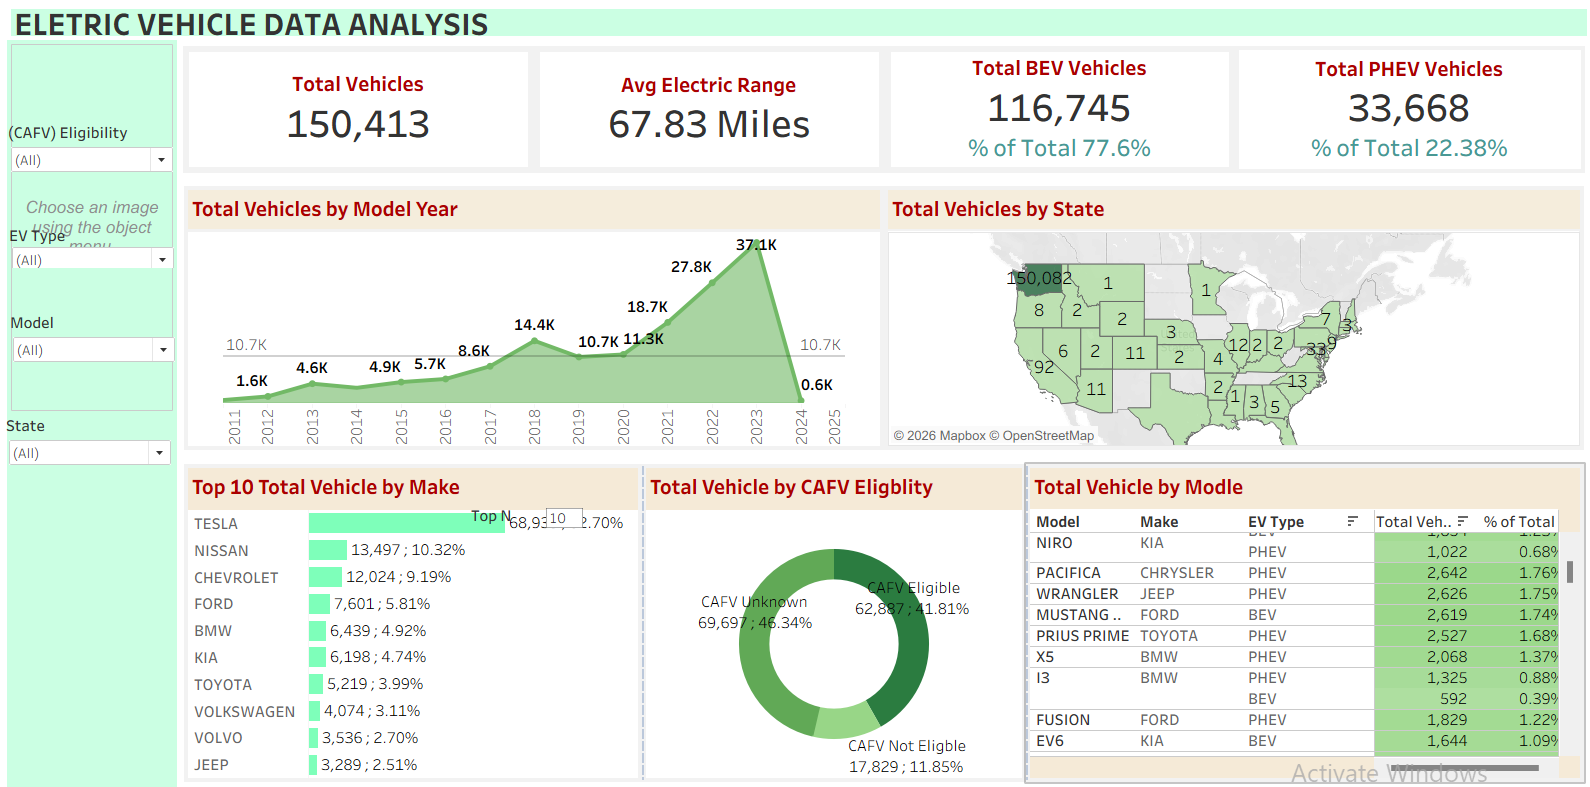

The dashboard page shown, as its layout file describes it:
{"tool":"tableau","page":{"name":"ELETRIC VEHICLE DATA ANALYSIS","canvas":[1600,900],"ordinal":0},"visuals":[{"type":"title","box":[8,8,1584,40]},{"type":"image","box":[8,48,170,422]},{"type":"worksheet","title":"Total_Vehicle_Population_Details","mark":"Automatic","box":[184,54,351,127]},{"type":"worksheet","title":"Avg_Electric_Range","mark":"Automatic","box":[535,54,351,127]},{"type":"worksheet","title":"Total_BEV_Vehicles","mark":"Automatic","box":[886,54,350,127]},{"type":"worksheet","title":"Total_PHEV_Vehicles","mark":"Automatic","box":[1236,54,350,127]},{"type":"filter","title":"Total Vehicles by Model Year","param":"[federated.00o16yv0j3mswq1ds1dui0h2vov1].[none:Clean Alternative Fuel Vehicle (C","box":[9,141,168,89]},{"type":"worksheet","title":"Total Vehicles by Model Year","mark":"Area","rows":["Calculation_1027269456093184","Calculation_1027269456093184"],"cols":["Model Year"],"box":[185,194,700.2,348]},{"type":"worksheet","title":"Total Vehicles by State","mark":"Multipolygon","box":[885.2,194,699.8,348]},{"type":"filter","title":"Total Vehicles by State","param":"[federated.00o16yv0j3mswq1ds1dui0h2vov1].[none:Electric Vehicle Type:nk]","box":[10,256,168,49]},{"type":"filter","title":"Total Vehicles by State","param":"[federated.00o16yv0j3mswq1ds1dui0h2vov1].[none:Model:nk]","box":[11,354,168,88]},{"type":"filter","title":"Total Vehicles by State","param":"[federated.00o16yv0j3mswq1ds1dui0h2vov1].[none:State:nk]","box":[7,470,168,96]},{"type":"blank","box":[8,470,170,422]},{"type":"blank","box":[9,544,170,119]},{"type":"worksheet","title":"Top 10 Total Vehicle by Make","mark":"Automatic","rows":["Make"],"cols":["Calculation_1027269456093184"],"box":[185,556,458,318]},{"type":"worksheet","title":"Total Vehicle by CAFV Eligblity","mark":"Pie","rows":["Calculation_0475039817302017","Calculation_0475039817433091"],"box":[643,556,384,318]},{"type":"worksheet","title":"Total Vehicle by Modle","mark":"Square","rows":["Model","Make","Electric Vehicle Type"],"box":[1027,556,558,318]},{"type":"parameter","param":"[Parameters].[Parameter 1]","box":[472,571,115,31]},{"type":"blank","box":[1,733,170,138]}]}

Visuals, with their boxes on the page's 1600x900 design canvas (x1, y1, x2, y2). These are canvas units, not pixel positions in the 1590x787 screenshot, which may show the page scaled, cropped or inside an application window:
title: l=8, t=8, r=1592, b=48
image: l=8, t=48, r=178, b=470
"Total_Vehicle_Population_Details" worksheet: l=184, t=54, r=535, b=181
"Avg_Electric_Range" worksheet: l=535, t=54, r=886, b=181
"Total_BEV_Vehicles" worksheet: l=886, t=54, r=1236, b=181
"Total_PHEV_Vehicles" worksheet: l=1236, t=54, r=1586, b=181
"Total Vehicles by Model Year" filter: l=9, t=141, r=177, b=230
"Total Vehicles by Model Year" worksheet (Area marks): l=185, t=194, r=885, b=542
"Total Vehicles by State" worksheet (Multipolygon marks): l=885, t=194, r=1585, b=542
"Total Vehicles by State" filter: l=10, t=256, r=178, b=305
"Total Vehicles by State" filter: l=11, t=354, r=179, b=442
"Total Vehicles by State" filter: l=7, t=470, r=175, b=566
blank: l=8, t=470, r=178, b=892
blank: l=9, t=544, r=179, b=663
"Top 10 Total Vehicle by Make" worksheet: l=185, t=556, r=643, b=874
"Total Vehicle by CAFV Eligblity" worksheet (Pie marks): l=643, t=556, r=1027, b=874
"Total Vehicle by Modle" worksheet (Square marks): l=1027, t=556, r=1585, b=874
parameter: l=472, t=571, r=587, b=602
blank: l=1, t=733, r=171, b=871
